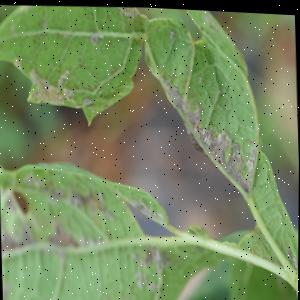Folha: (0, 0, 300, 300)
Fungo: (161, 69, 260, 193), (24, 169, 116, 223), (186, 98, 247, 178), (48, 217, 107, 249), (228, 138, 245, 170), (189, 129, 207, 153), (171, 83, 186, 110), (188, 100, 203, 126), (217, 127, 232, 150), (287, 243, 299, 266), (57, 68, 70, 89), (90, 32, 104, 46), (83, 95, 95, 109), (295, 266, 299, 300), (293, 252, 299, 266), (170, 27, 176, 39), (199, 73, 203, 81)
